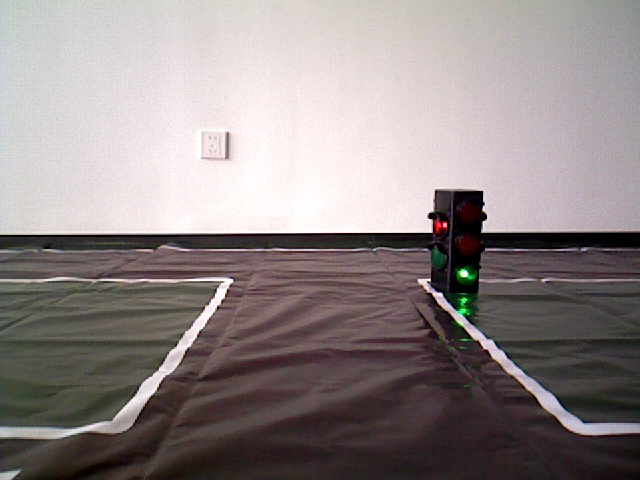green: (434, 189, 484, 287)
